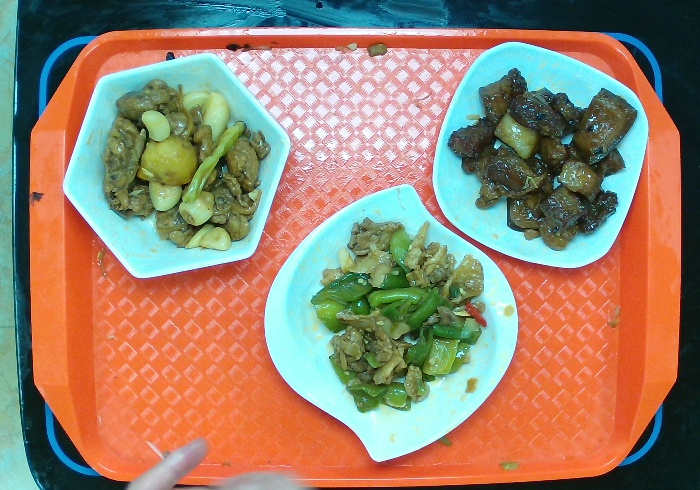RJxy-Liu_Jiao_Wan: (61, 51, 292, 279)
RJxy-Shuang_Jiao_Pan: (262, 182, 520, 464)
RJxy-Si_Fang_Wan: (430, 39, 650, 270)
